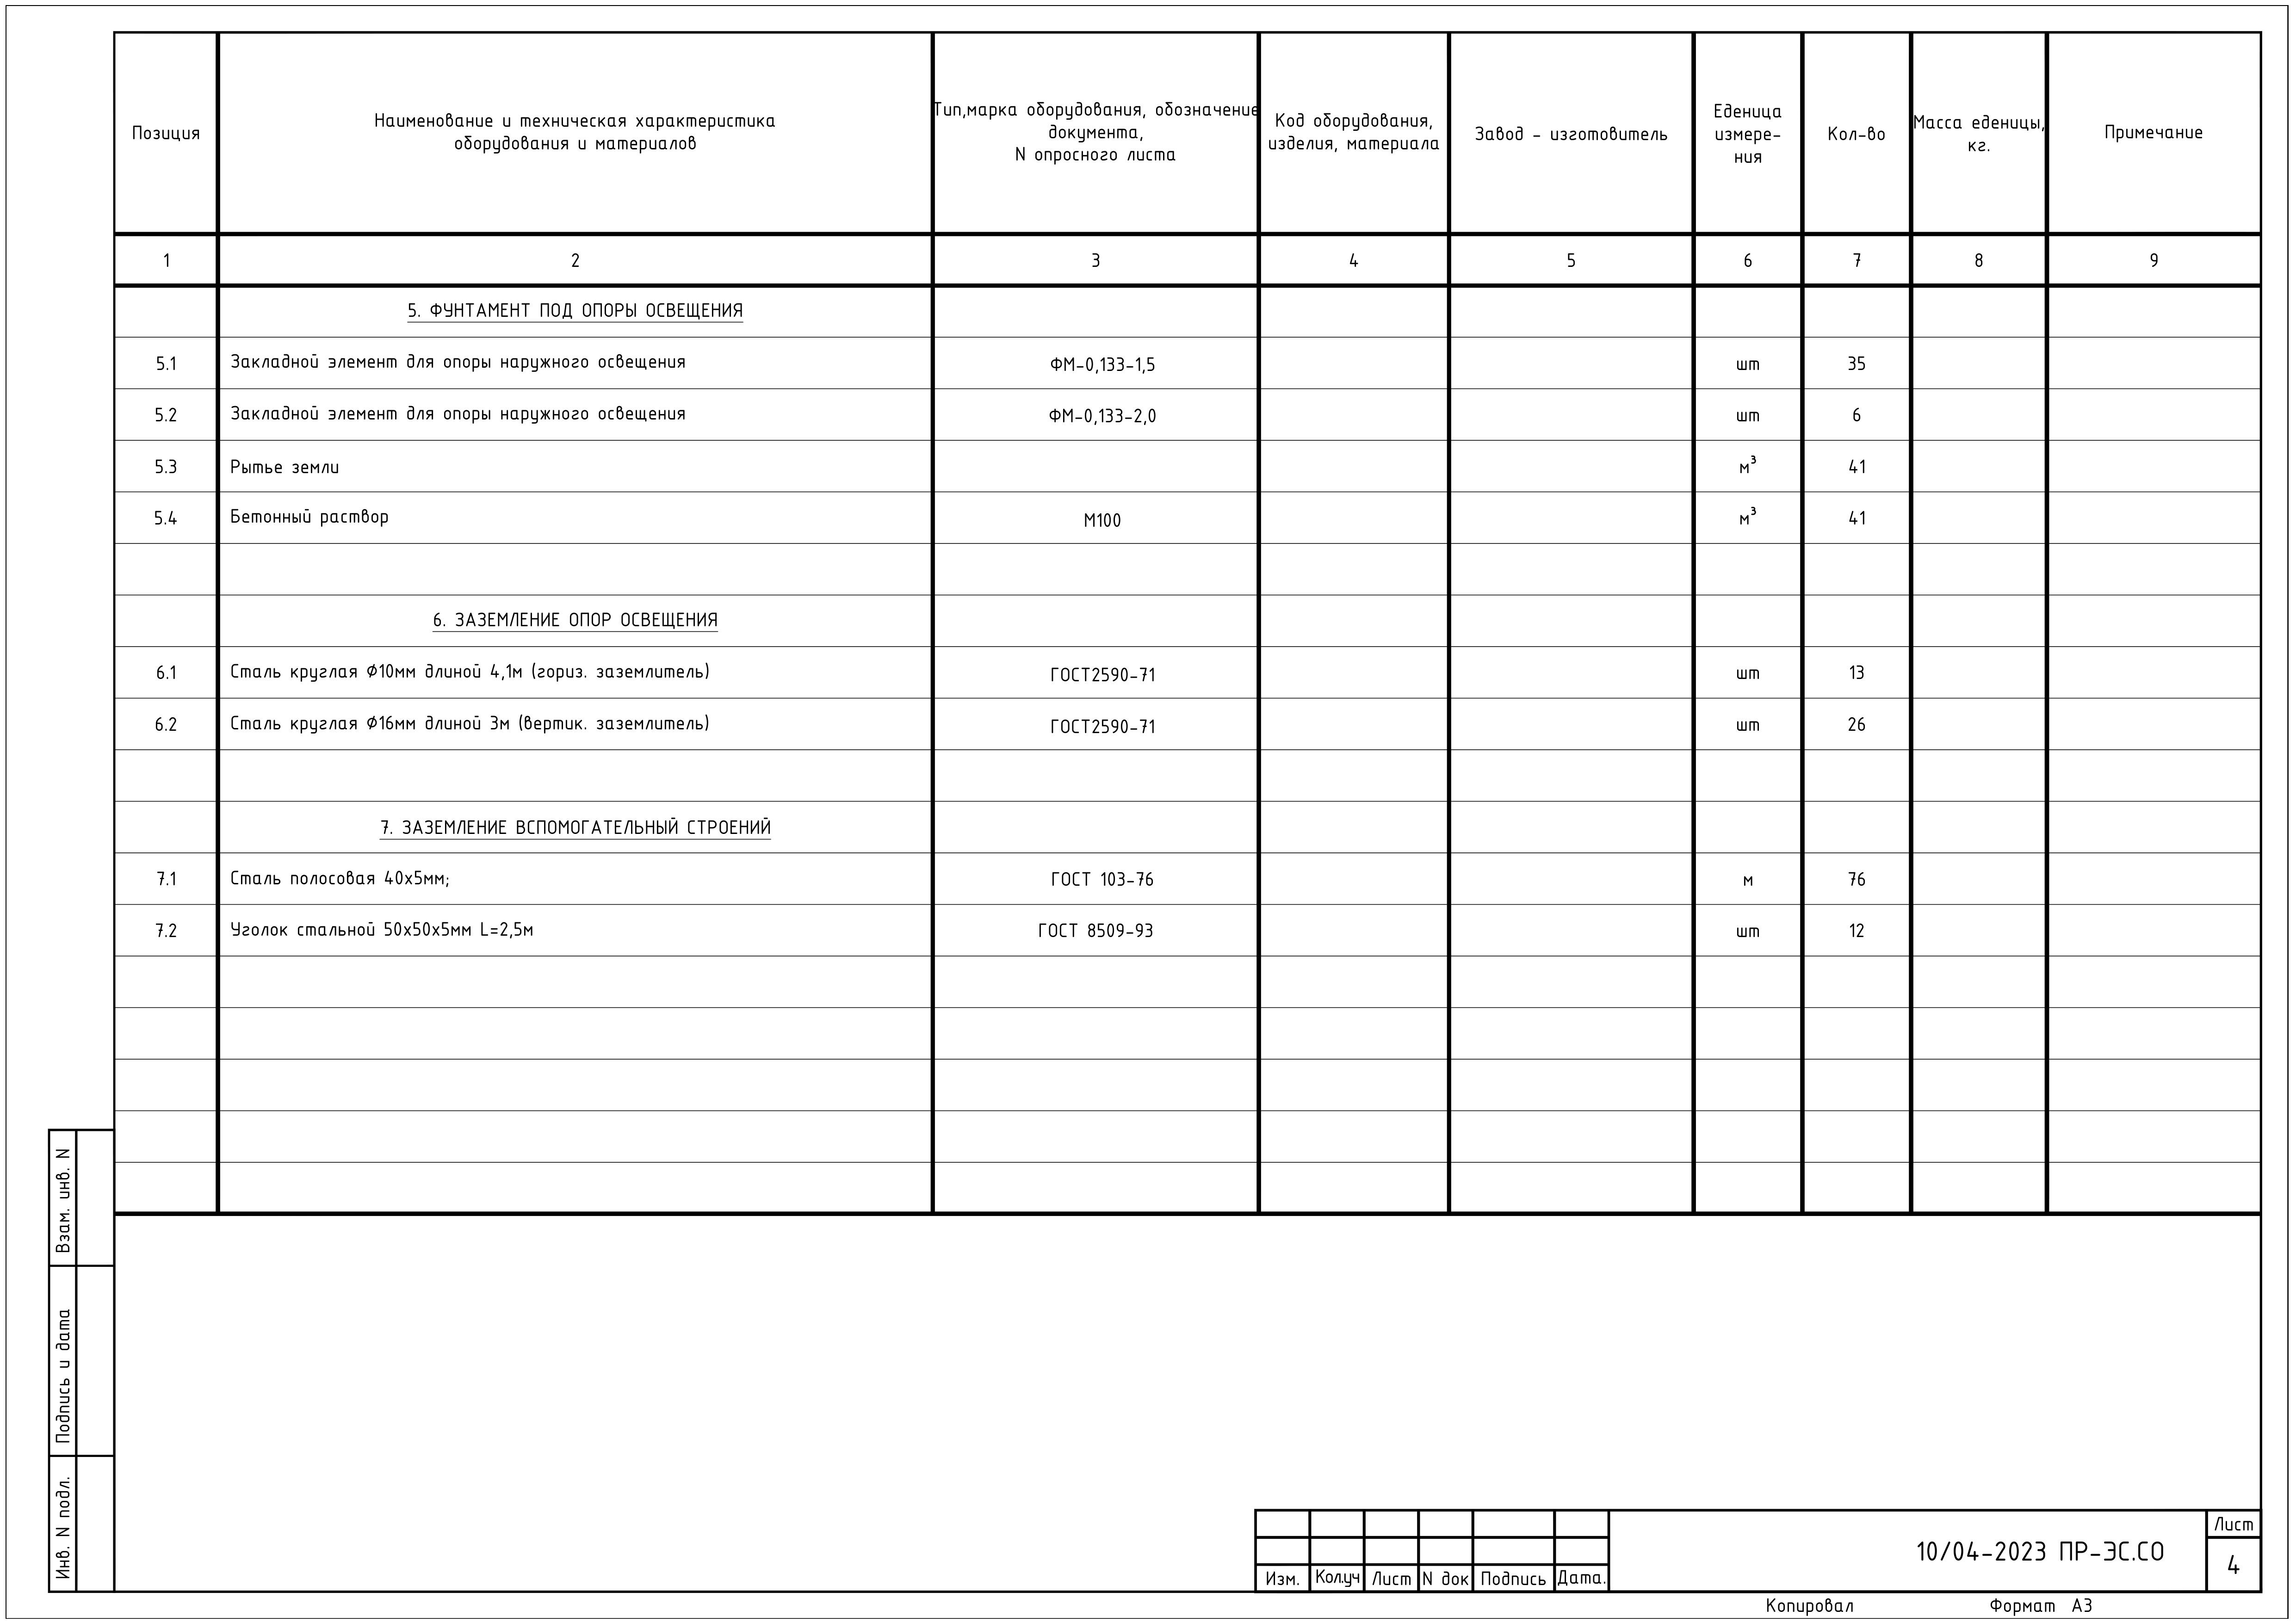Name of costs: (217, 235, 932, 1213)
Note: (931, 233, 1258, 1212)
Quantity: (1802, 235, 1911, 1214)
Unit of measurement: (1694, 233, 1803, 1212)
